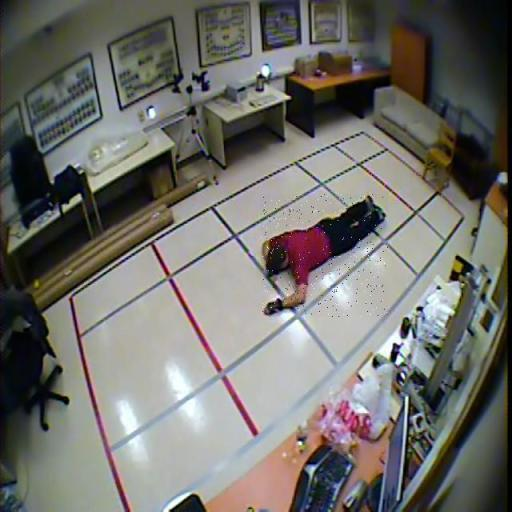Fall: (262, 194, 388, 317)
